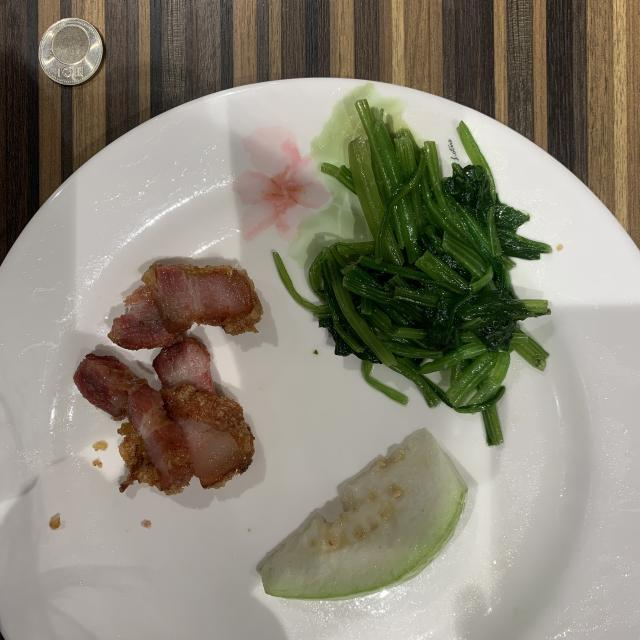coin: (39, 18, 102, 85)
guava -sliced-: (260, 429, 468, 599)
mustard greens: (275, 100, 551, 445)
red grilled pork: (74, 264, 262, 494)
